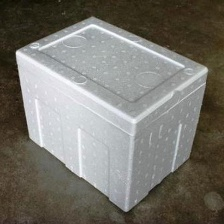foam_box: (10, 11, 213, 216)
